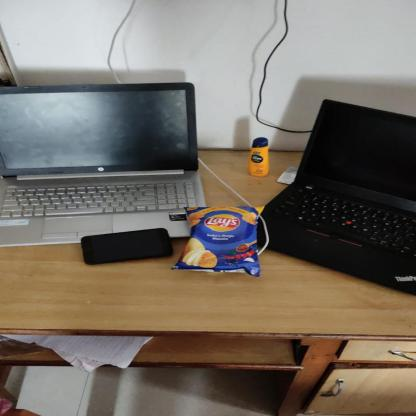indian_magic_masala: (181, 207, 263, 277)
